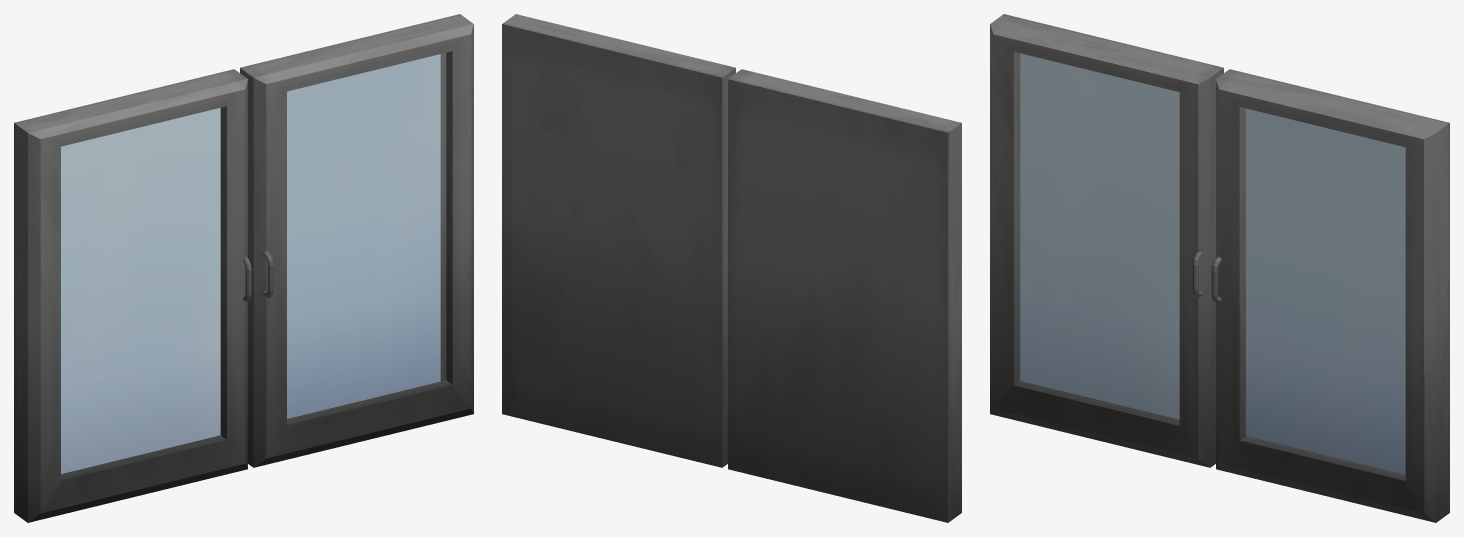
The model's file is door.fbx.
The picture shows the model from 3 angles, left to right: view 1: azimuth 30°, elevation 25°; view 2: azimuth 150°, elevation 25°; view 3: azimuth 330°, elevation 25°; orthographic projection.
Visible parts, largest first — view 1: Cube.003; view 2: Cube.003; view 3: Cube.003.
Boxes of the visible parts, <box> form: Cube.003: <box>14,14,473,522</box>; Cube.003: <box>502,14,961,522</box>; Cube.003: <box>990,14,1449,522</box>.
Bounding box in the file's own units: 218 × 182 × 20.71.
1 material, 1 textured.
